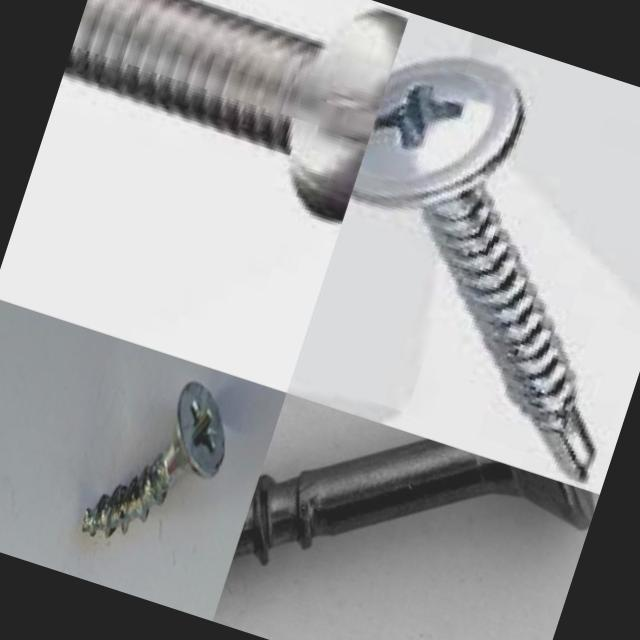Screw: (349, 57, 599, 486), (212, 392, 599, 640), (62, 0, 408, 227), (82, 381, 224, 538)
